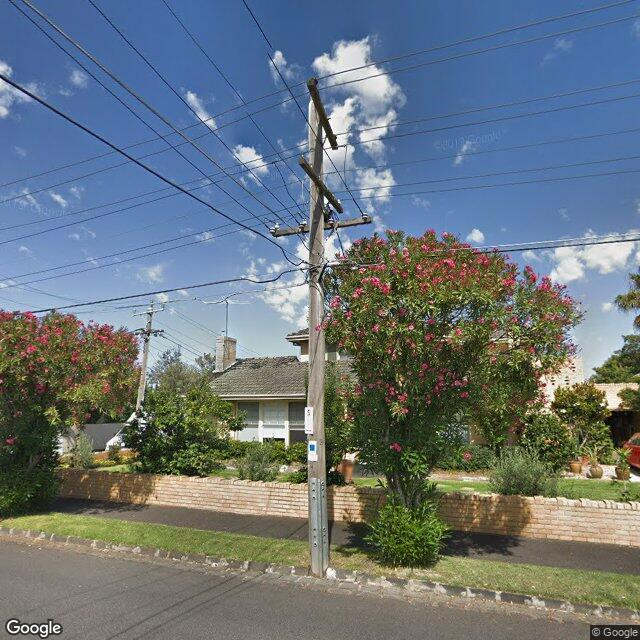HV-transmission: (308, 78, 340, 150), (133, 299, 166, 317)
crossarm: (299, 158, 344, 214), (270, 213, 372, 237), (308, 80, 339, 149), (134, 309, 164, 317), (132, 330, 164, 336)
timber-pole: (306, 99, 329, 573), (136, 299, 154, 410)
